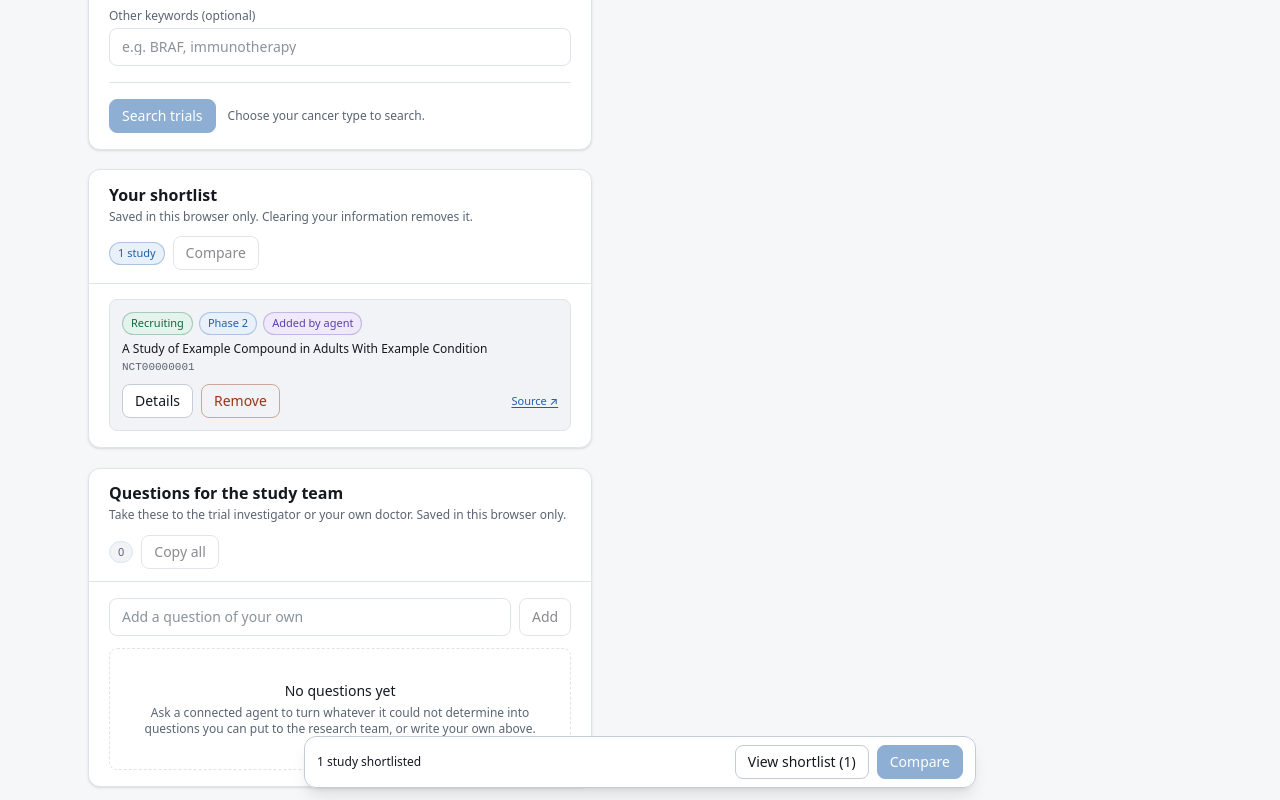
Test: agent writes are visible to the human › the human can remove what the agent shortlisted
(page scrolled)
Click the button "Remove": {"x": 240, "y": 401} [201,384,280,418]
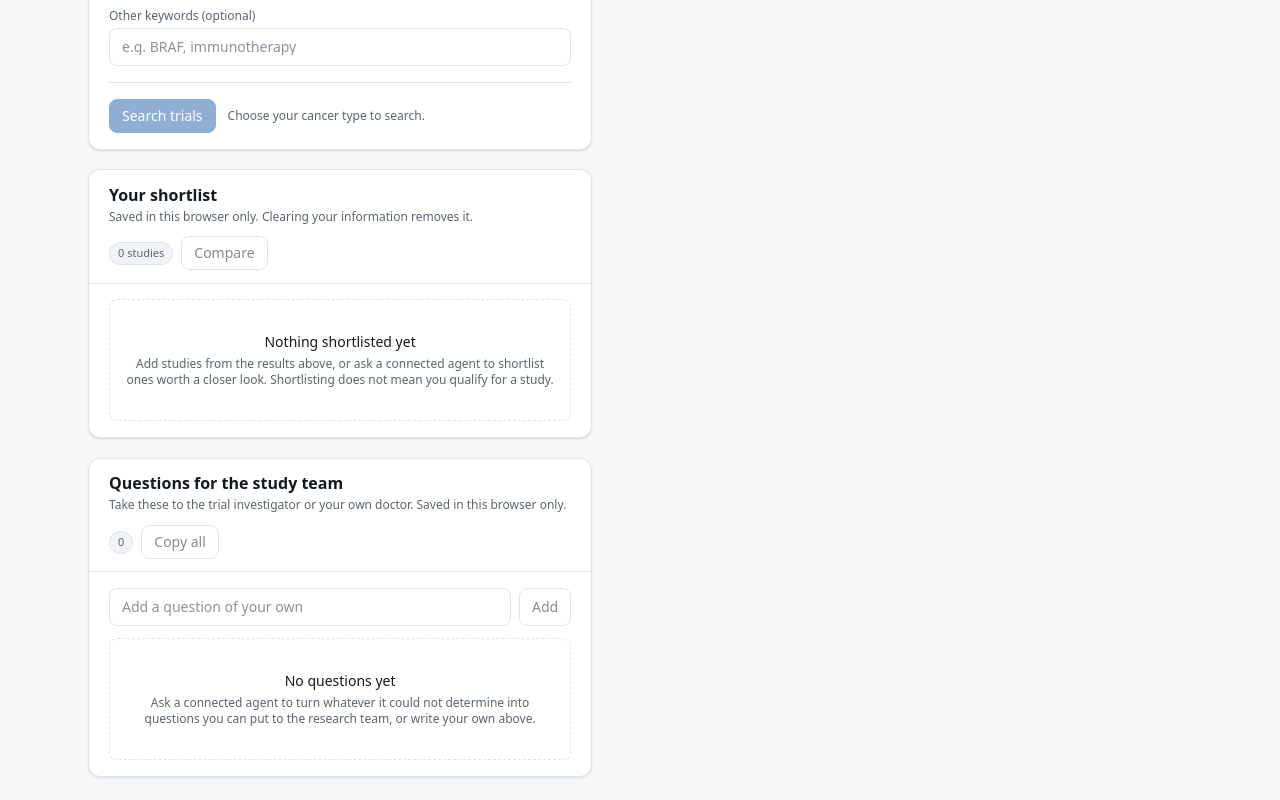
Expected: the text "Nothing shortlisted yet" is shown, [264,332,416,351]
